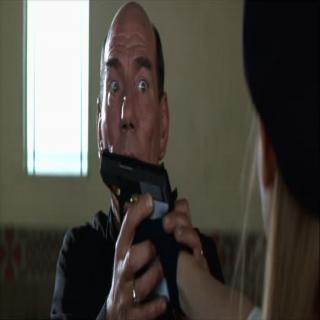gun: (103, 140, 196, 308)
